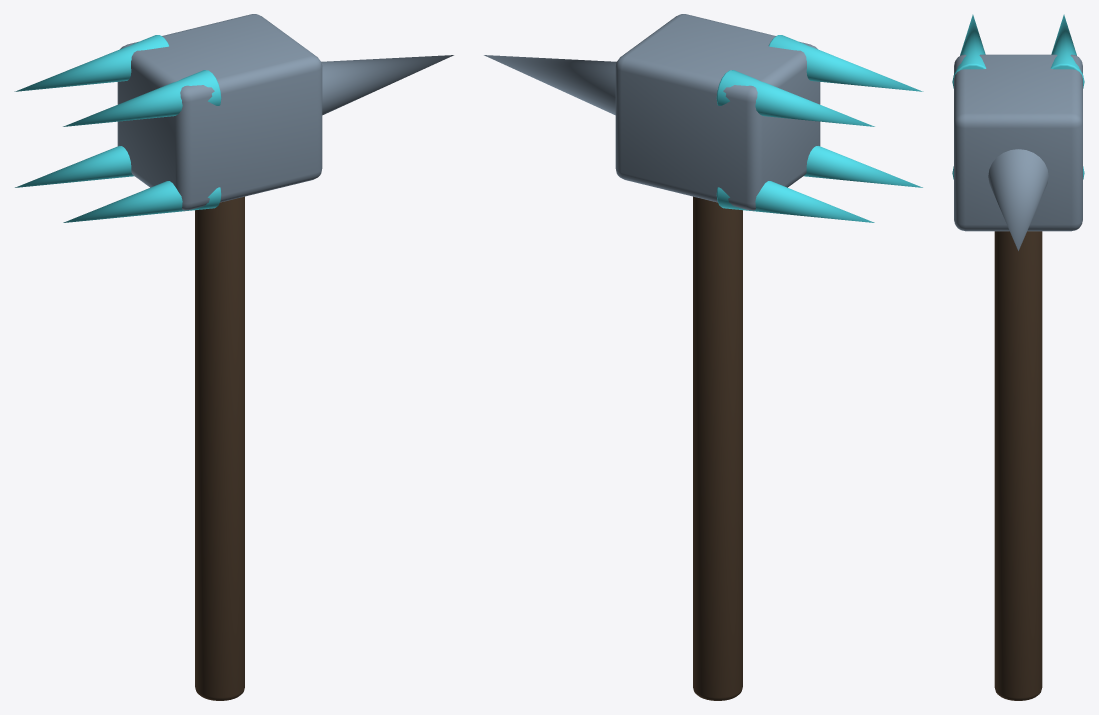
Rendered from hammer_v5.glb.
3 views of the same model, side by side, from view 1: azimuth 30°, elevation 25°; view 2: azimuth 150°, elevation 25°; view 3: azimuth 270°, elevation 25° (orthographic). The views are drawn at different scales.
Visible parts, largest first — view 1: LUCERNE_CORE_PRIMARY, HAMMER_SHAFT_SECONDARY, LUCERNE_PICK_PRIMARY, LUCERNE_BEAK_ACCENT.001, LUCERNE_BEAK_ACCENT.003, LUCERNE_BEAK_ACCENT, LUCERNE_BEAK_ACCENT.002; view 2: LUCERNE_CORE_PRIMARY, HAMMER_SHAFT_SECONDARY, LUCERNE_PICK_PRIMARY, LUCERNE_BEAK_ACCENT.003, LUCERNE_BEAK_ACCENT.001, LUCERNE_BEAK_ACCENT.002, LUCERNE_BEAK_ACCENT; view 3: HAMMER_SHAFT_SECONDARY, LUCERNE_CORE_PRIMARY, LUCERNE_PICK_PRIMARY, LUCERNE_BEAK_ACCENT.001, LUCERNE_BEAK_ACCENT.003.
Part boxes in pixels (bbox=[...]): LUCERNE_CORE_PRIMARY: bbox=[117, 14, 322, 210]; HAMMER_SHAFT_SECONDARY: bbox=[195, 196, 244, 700]; LUCERNE_PICK_PRIMARY: bbox=[321, 55, 453, 115]; LUCERNE_BEAK_ACCENT.001: bbox=[63, 70, 221, 126]; LUCERNE_BEAK_ACCENT.003: bbox=[14, 35, 169, 91]; LUCERNE_BEAK_ACCENT: bbox=[63, 181, 221, 222]; LUCERNE_BEAK_ACCENT.002: bbox=[15, 146, 134, 187]; LUCERNE_CORE_PRIMARY: bbox=[615, 14, 820, 210]; HAMMER_SHAFT_SECONDARY: bbox=[693, 196, 742, 700]; LUCERNE_PICK_PRIMARY: bbox=[484, 55, 616, 115]; LUCERNE_BEAK_ACCENT.003: bbox=[716, 70, 874, 126]; LUCERNE_BEAK_ACCENT.001: bbox=[768, 35, 923, 91]; LUCERNE_BEAK_ACCENT.002: bbox=[716, 181, 874, 222]; LUCERNE_BEAK_ACCENT: bbox=[803, 146, 922, 187]; HAMMER_SHAFT_SECONDARY: bbox=[994, 231, 1042, 700]; LUCERNE_CORE_PRIMARY: bbox=[954, 54, 1082, 231]; LUCERNE_PICK_PRIMARY: bbox=[988, 149, 1048, 250]; LUCERNE_BEAK_ACCENT.001: bbox=[952, 14, 986, 88]; LUCERNE_BEAK_ACCENT.003: bbox=[1050, 14, 1084, 88].
Size of the model in its own units: 2.41 by 3.57 by 0.6972.
